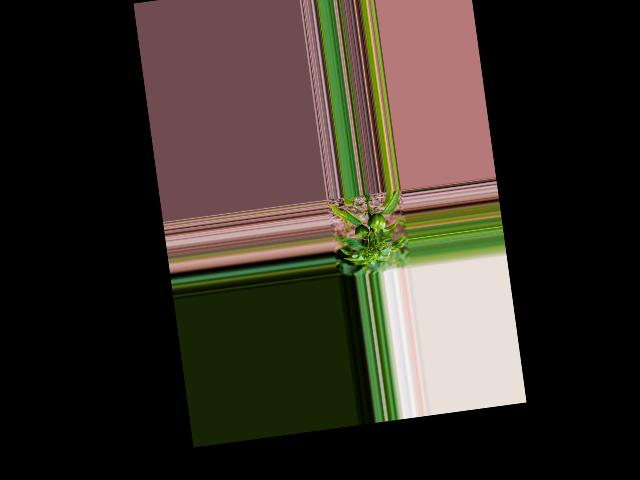bell_pepper: (353, 223, 369, 238)
